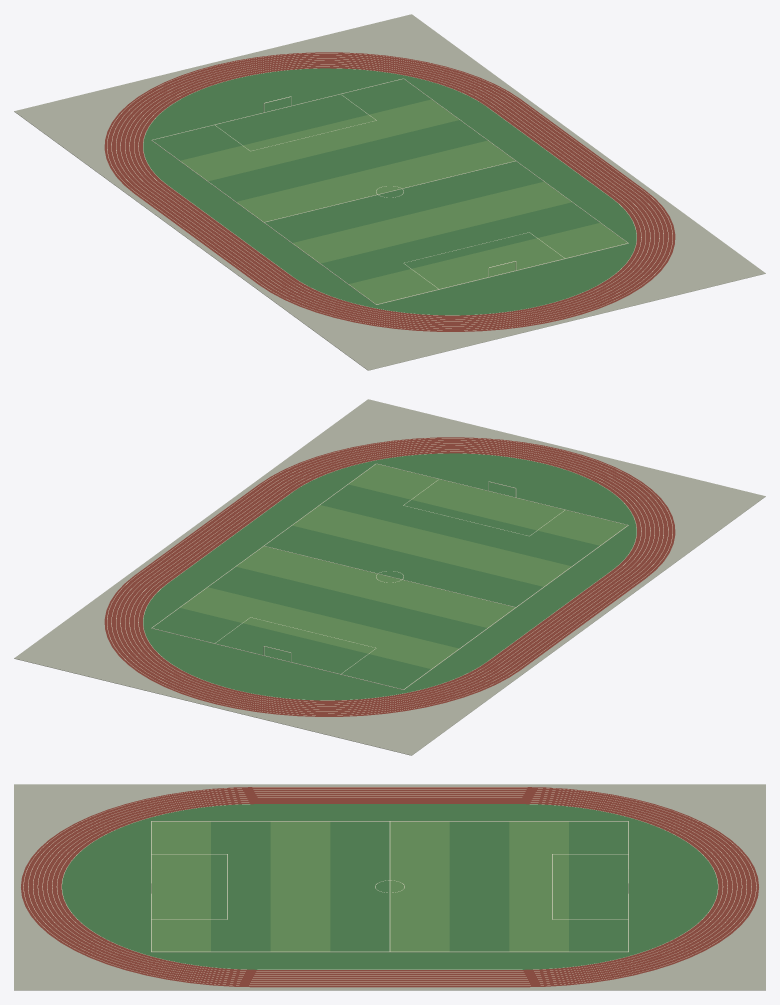
Rendered from track_C.glb.
3 renders of one model, top to bottom at view 1: azimuth 30°, elevation 25°; view 2: azimuth 150°, elevation 25°; view 3: azimuth 270°, elevation 25°, orthographic. The views are drawn at different scales.
Parts seen in each view (by area): view 1: FootballTurfStripes, RunningTrack, OvalGrass, PavedSurround, TrackLaneMarks, FootballPitch; view 2: FootballTurfStripes, RunningTrack, OvalGrass, PavedSurround, TrackLaneMarks, FootballPitch; view 3: FootballTurfStripes, RunningTrack, OvalGrass, PavedSurround, TrackLaneMarks, FootballPitch.
Part boxes in pixels (x1=…): FootballTurfStripes: x1=152, y1=79, x2=627, y2=304; RunningTrack: x1=104, y1=52, x2=675, y2=331; OvalGrass: x1=143, y1=68, x2=636, y2=315; PavedSurround: x1=14, y1=14, x2=765, y2=370; TrackLaneMarks: x1=107, y1=53, x2=672, y2=330; FootballPitch: x1=151, y1=78, x2=628, y2=304; FootballTurfStripes: x1=152, y1=464, x2=627, y2=689; RunningTrack: x1=104, y1=437, x2=675, y2=716; OvalGrass: x1=143, y1=453, x2=636, y2=700; PavedSurround: x1=14, y1=399, x2=765, y2=755; TrackLaneMarks: x1=107, y1=438, x2=672, y2=715; FootballPitch: x1=151, y1=463, x2=628, y2=689; FootballTurfStripes: x1=151, y1=821, x2=628, y2=951; RunningTrack: x1=21, y1=787, x2=758, y2=987; OvalGrass: x1=62, y1=804, x2=717, y2=969; PavedSurround: x1=14, y1=784, x2=765, y2=990; TrackLaneMarks: x1=23, y1=787, x2=756, y2=985; FootballPitch: x1=151, y1=821, x2=628, y2=952.
Bounding box in the file's own units: 107 × 2.75 × 165.
